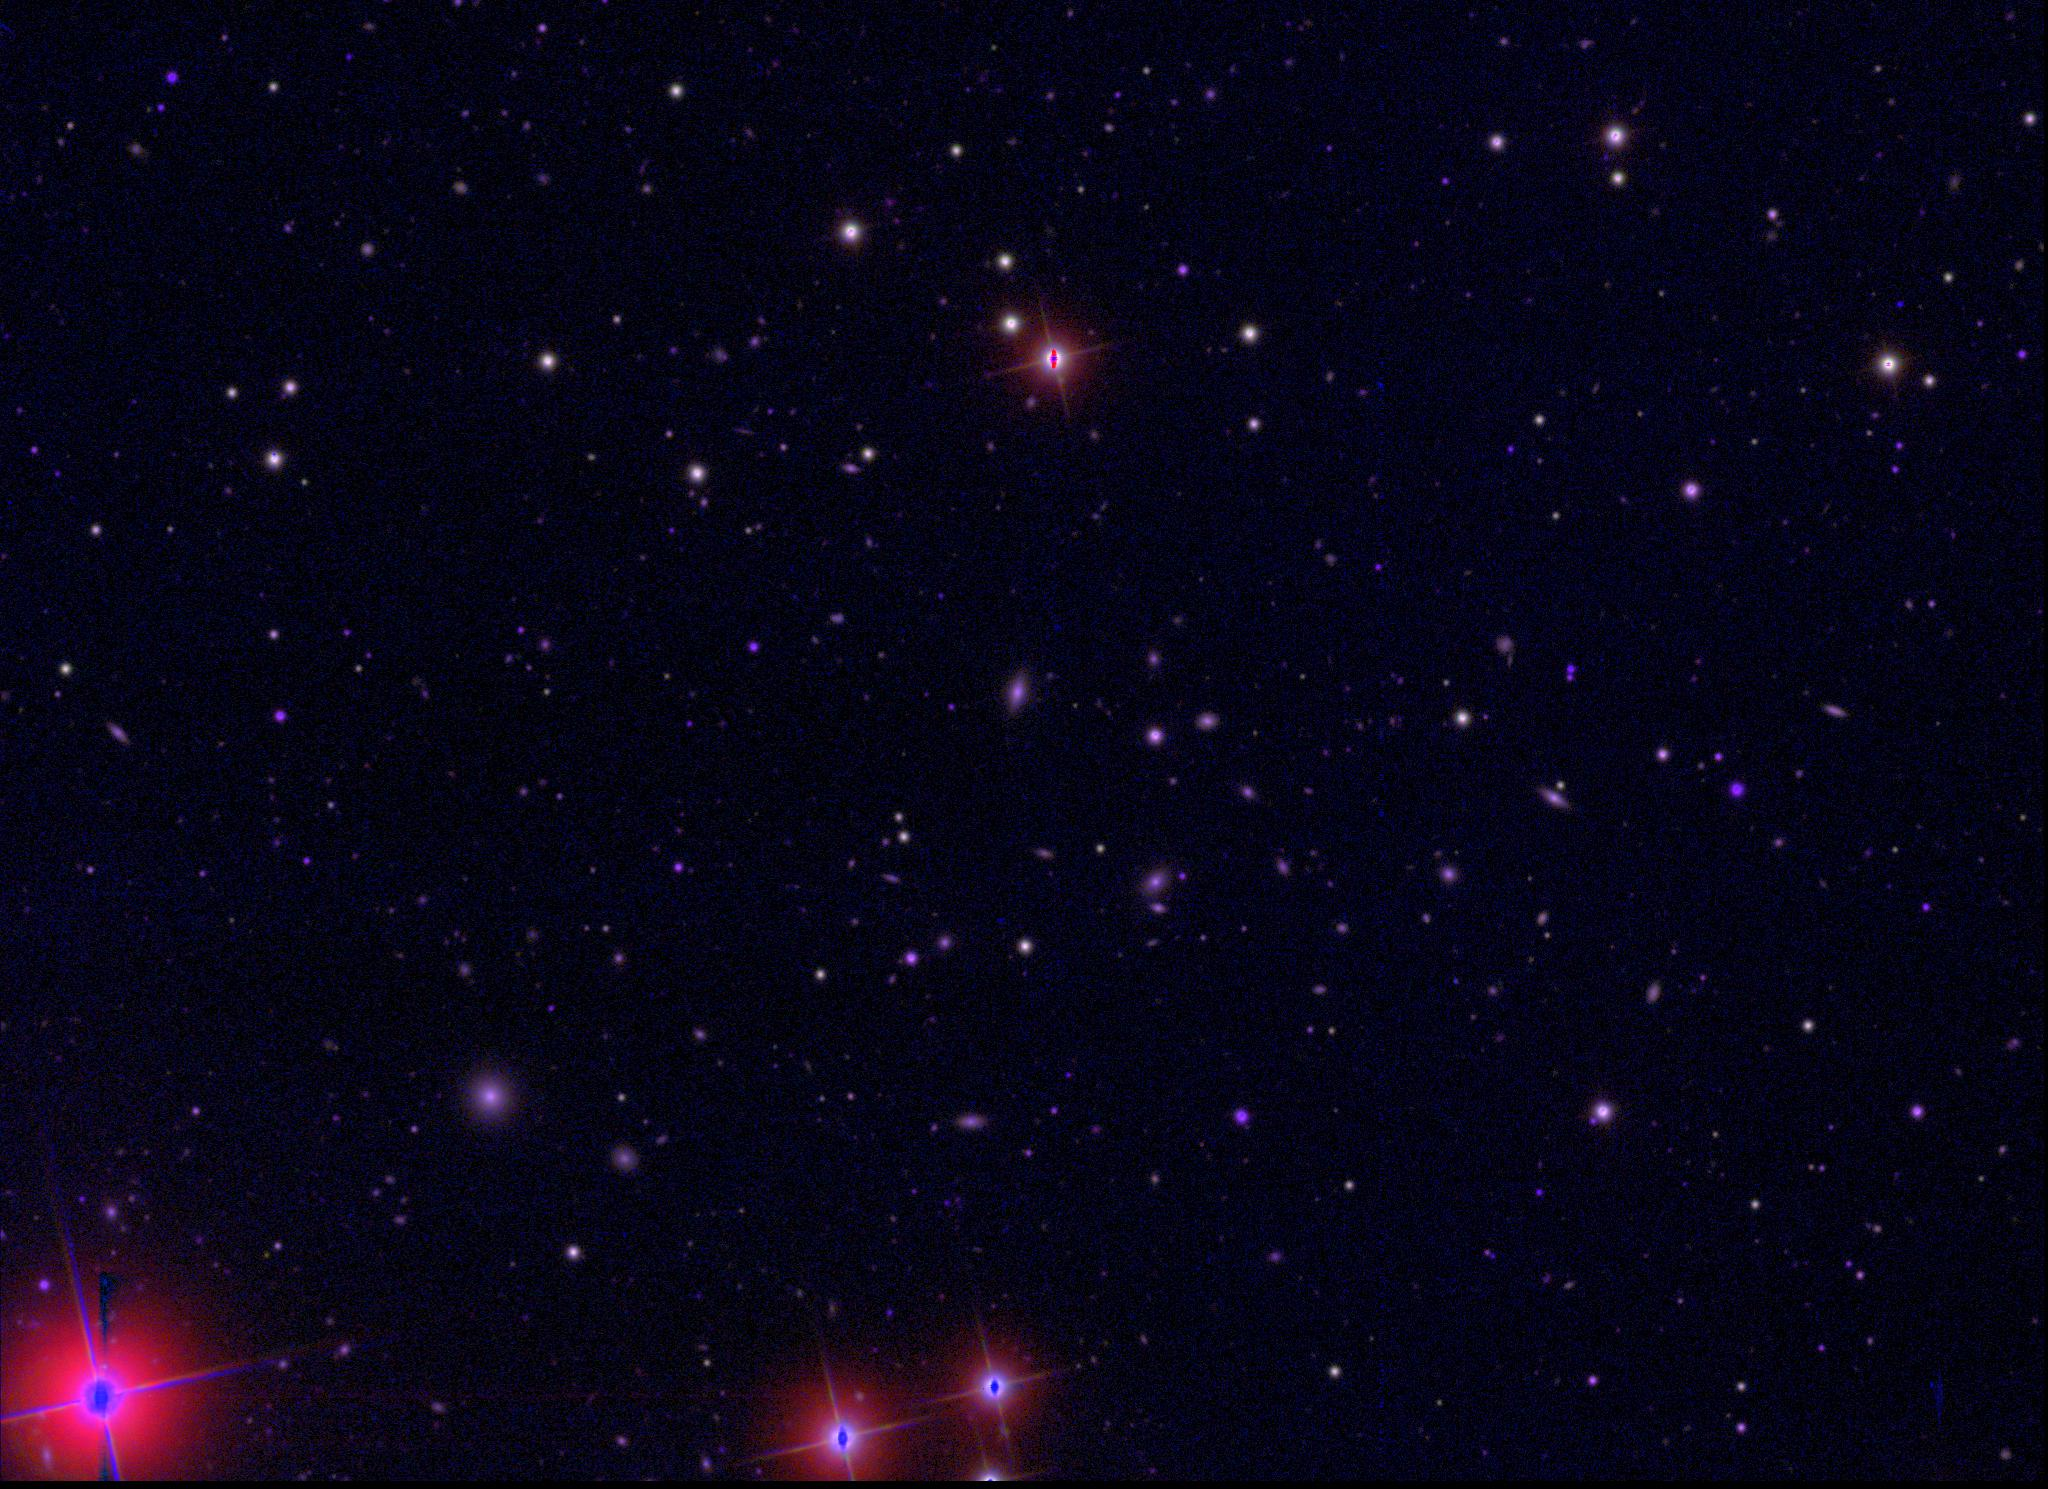L: (1892, 296, 1906, 310)
